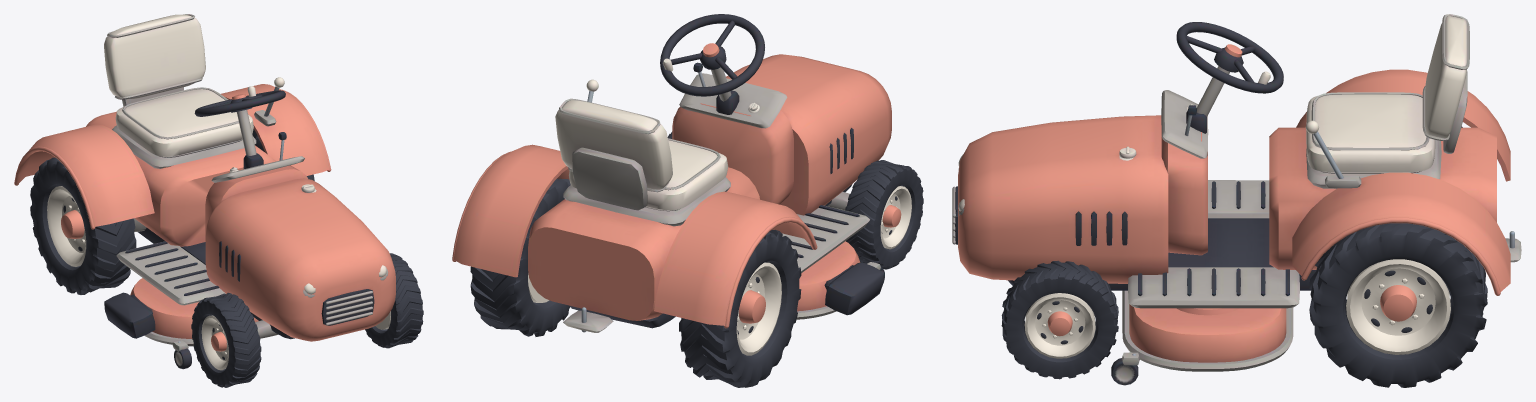
The model's file is riding-mower.glb.
3 views of the same model, side by side, from view 1: azimuth 30°, elevation 25°; view 2: azimuth 150°, elevation 25°; view 3: azimuth 270°, elevation 25° (orthographic). The views are drawn at different scales.
Visible parts, largest first — view 1: riding-mower_body, riding-mower_wheel_rr, riding-mower_wheel_fr, riding-mower_wheel_fl; view 2: riding-mower_body, riding-mower_wheel_rr, riding-mower_wheel_fr, riding-mower_wheel_rl; view 3: riding-mower_body, riding-mower_wheel_rl, riding-mower_wheel_fl.
Part boxes in pixels (left/top/right/bottom): riding-mower_body: left=14, top=14, right=395, bottom=369; riding-mower_wheel_rr: left=30, top=157, right=136, bottom=294; riding-mower_wheel_fr: left=191, top=292, right=261, bottom=387; riding-mower_wheel_fl: left=365, top=253, right=423, bottom=348; riding-mower_body: left=452, top=14, right=891, bottom=332; riding-mower_wheel_rr: left=679, top=229, right=801, bottom=387; riding-mower_wheel_fr: left=845, top=160, right=923, bottom=269; riding-mower_wheel_rl: left=470, top=178, right=570, bottom=336; riding-mower_body: left=952, top=14, right=1521, bottom=385; riding-mower_wheel_rl: left=1309, top=223, right=1487, bottom=387; riding-mower_wheel_fl: left=1001, top=260, right=1118, bottom=379.
Size of the model in its own units: 1.19 by 1.04 by 1.85.
Materials: 13 (1 with a texture image).
